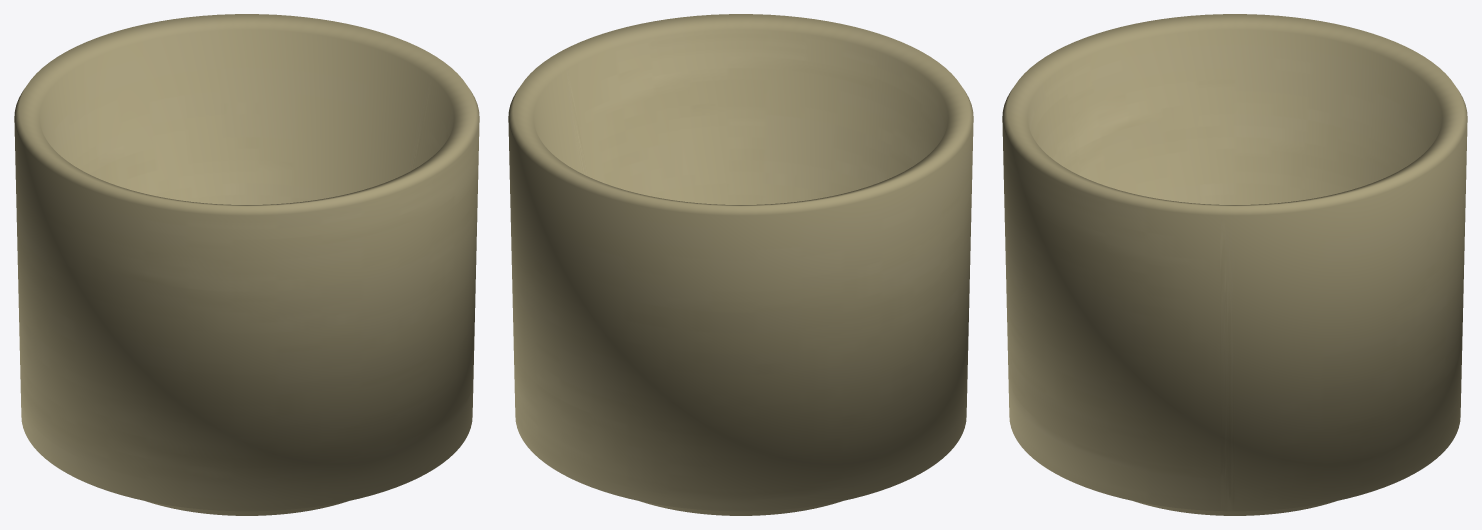
File: dishware__small_ceramic_cup.glb
3 renders of one model, left to right at view 1: azimuth 30°, elevation 25°; view 2: azimuth 150°, elevation 25°; view 3: azimuth 270°, elevation 25°, orthographic.
Parts seen in each view (by area): view 1: body; view 2: body; view 3: body.
Part boxes in pixels (<box>): body: <box>14,14,479,515</box>; body: <box>508,14,973,515</box>; body: <box>1002,14,1467,515</box>.
Bounding box in the file's own units: 0.059 × 0.047 × 0.059.
Materials: 1 (1 with a texture image).
